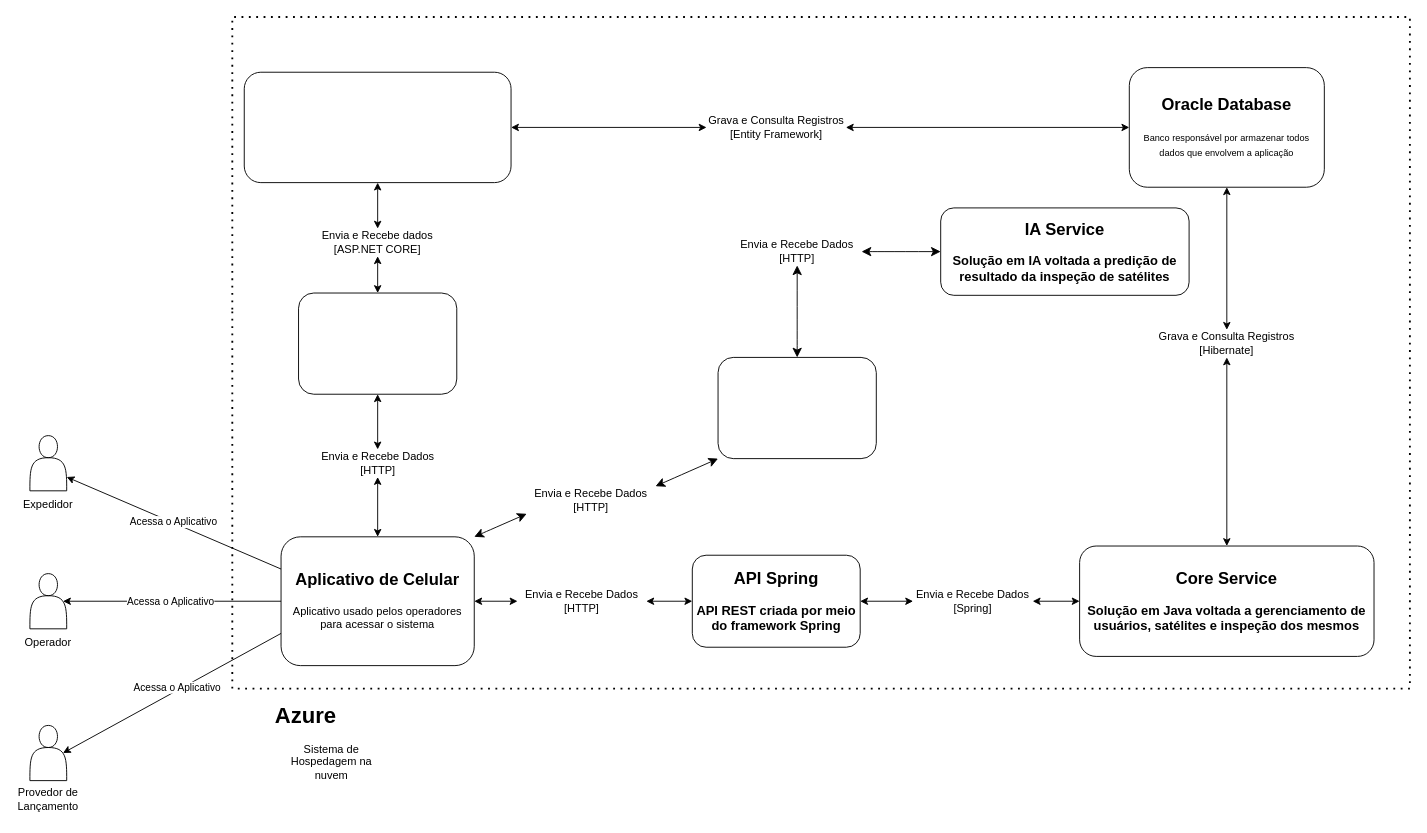
The diagram is 1427 pixels wide and 833 high, and some of its shapes have lost their labels. Each missing label, with the box of its shape:
API REST API utilizada para troca de dados entre front e back-end: (298, 292, 457, 394)
API REST API utilizada para troca de dados entre front e IA Service: (717, 356, 876, 459)
Launch Service Solução em C# voltada a calculo de carga e envio de satélites: (243, 71, 511, 183)
